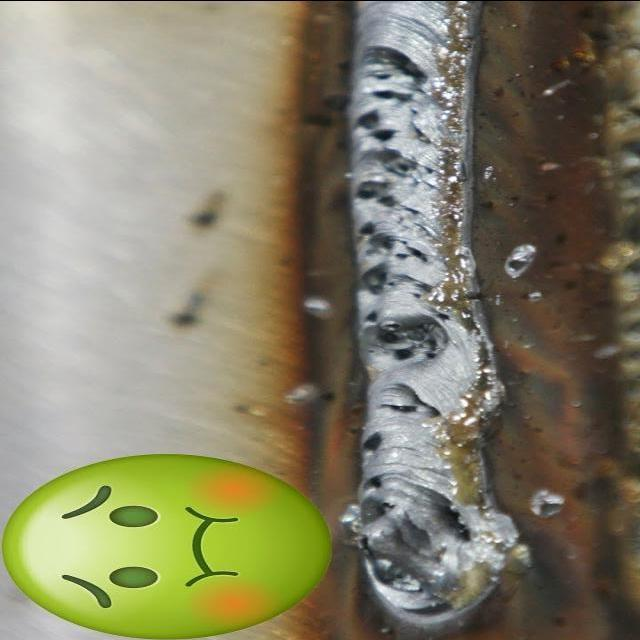defect: (355, 106, 436, 214), (356, 220, 431, 298), (362, 304, 455, 366), (356, 528, 426, 594), (369, 68, 418, 106), (377, 401, 444, 428), (437, 500, 473, 544), (355, 428, 390, 454), (363, 470, 390, 491), (375, 497, 398, 518)
